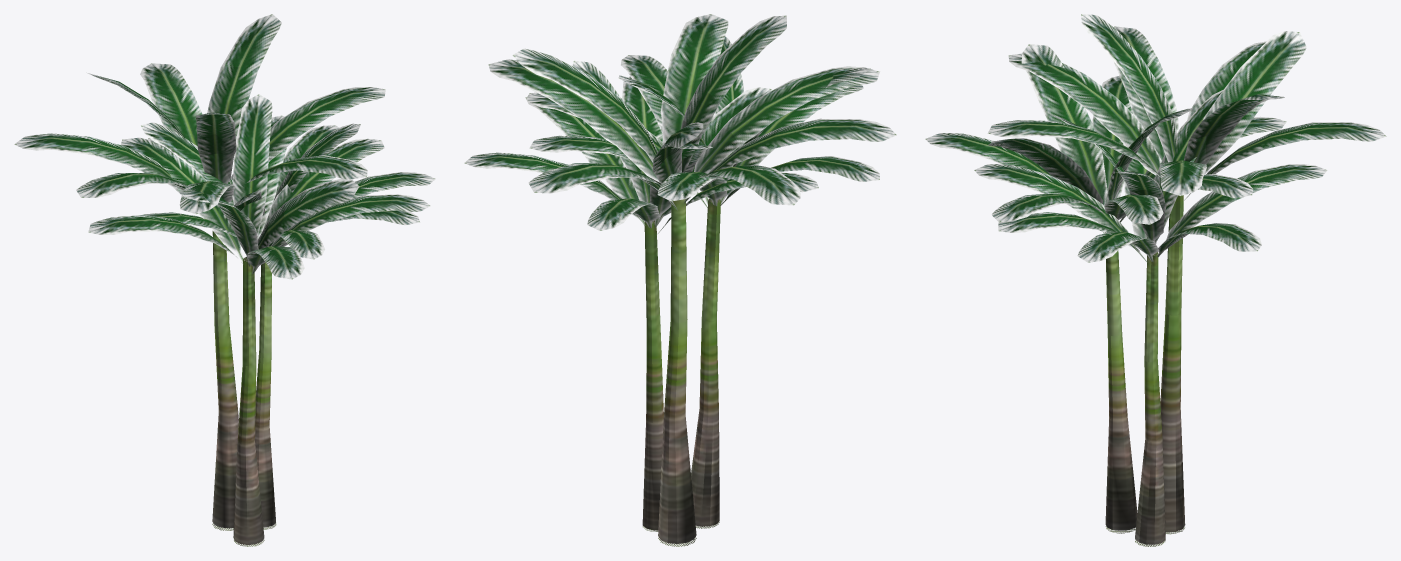
The model's file is palmeira2.fbx.
3 renders of one model, left to right at view 1: azimuth 30°, elevation 25°; view 2: azimuth 150°, elevation 25°; view 3: azimuth 270°, elevation 25°, orthographic. The views are drawn at different scales.
Parts seen in each view (by area): view 1: palmeira2; view 2: palmeira2; view 3: palmeira2.
Boxes of the visible parts, <box> form: palmeira2: <box>14,14,435,546</box>; palmeira2: <box>464,14,896,546</box>; palmeira2: <box>925,14,1386,546</box>.
Bounding box in the file's own units: 553 × 701 × 606.
